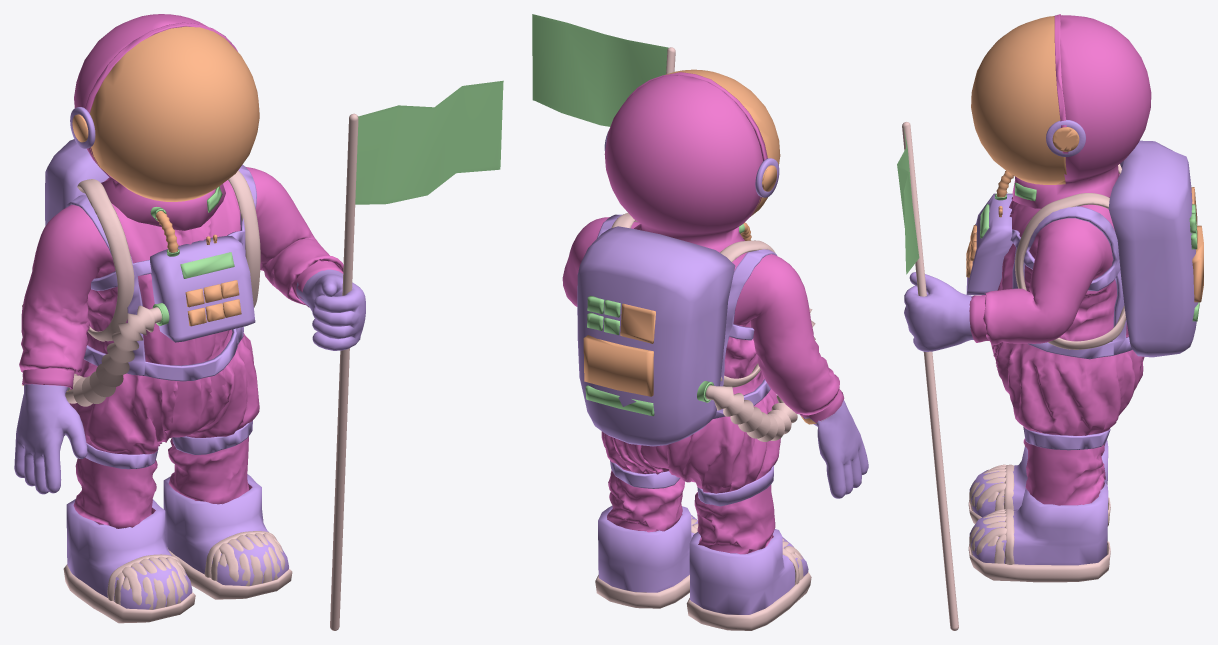
Rendered from astropink-lowres-draco.glb.
The picture shows the model from 3 angles, left to right: view 1: azimuth 30°, elevation 25°; view 2: azimuth 150°, elevation 25°; view 3: azimuth 270°, elevation 25°; orthographic projection. The views are drawn at different scales.
Visible parts, largest first — view 1: Cube.097; view 2: Cube.097; view 3: Cube.097.
Boxes of the visible parts, <box> form: Cube.097: <box>14,14,503,630</box>; Cube.097: <box>532,14,868,630</box>; Cube.097: <box>897,14,1203,630</box>.
Bounding box in the file's own units: 2.38 × 3.28 × 1.64.
